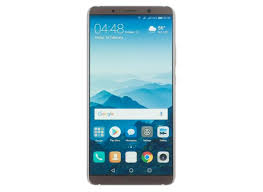huawei: (85, 2, 176, 186)
